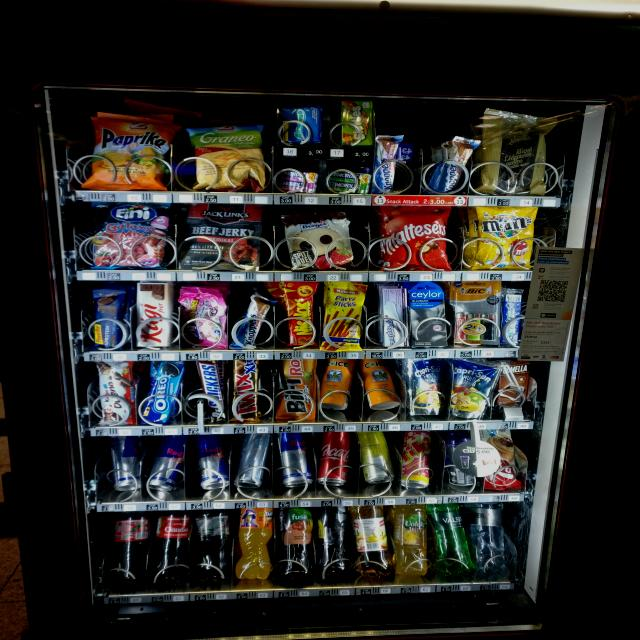7days_croissantschoko_packung_80_1_0000000000003: (479, 428, 524, 488)
airwaves_menthoneucalyptus_riegel_14_1_50173167: (281, 105, 324, 146)
berger_spitzbueb____: (282, 214, 359, 269)
bifi_roll__50__4251097402635: (275, 358, 318, 419)
bueno___43__4008400320328: (94, 359, 138, 425)
c-swiss_dosenabisicetea__33__9120025930135: (361, 358, 401, 410), (320, 358, 358, 412)
caprisun_multivitamin__20__4000177605004: (451, 358, 495, 418), (411, 358, 450, 420)
coke__dose_33__54491472: (315, 432, 357, 486)
coke__flasche_50__54491472: (111, 510, 153, 590), (153, 509, 192, 587)
coke_zero_flasche_50__5449000131836: (190, 507, 233, 582)
comella_schokodrink__33__7613100037253: (498, 360, 532, 414)
fanta___50__40822938: (234, 506, 275, 578)
fini_galaxymix_packung_100_1_8410525150364: (89, 202, 163, 266)
fini_jellykisses_packung_80_1_8410525116704: (179, 288, 226, 350)
fuse_lemon__50__5449000235947: (314, 505, 356, 579)
fuse_lemon_dose_33__5449000235947: (359, 432, 395, 483)
fuse_peach__50__5449000236623: (277, 504, 316, 585)
jacklinks_beefjerkyorginal__25__4047751730219: (182, 203, 264, 270)
jlbrichard_gauffrechoko__90__5410495002079: (484, 106, 548, 192)
kagi___50__7610046000259: (132, 280, 173, 346)
knoppers_riegel____4035800488808: (231, 294, 272, 346), (439, 133, 474, 192), (374, 132, 399, 190)
lorenz_nicnacs__40__4018077798818: (280, 280, 322, 351)
malburner_partysticks__40__7610200279682: (322, 280, 363, 351)
maltesers___100__5000159023061: (376, 202, 454, 269)
mnms_gelb__45__40111445: (474, 206, 532, 268)
oreo___66__84100733: (145, 360, 183, 425)
powerbar_proteinplusschoko__55__4029679520028: (91, 289, 127, 349)
ramseier_schorle__50__7610057012456: (351, 504, 394, 578)
redbull___33__90162909: (194, 432, 234, 492), (147, 436, 188, 493), (276, 432, 315, 487), (110, 434, 146, 490)
redbull_light__33__90162800: (237, 434, 277, 492)
skittles_sour_riegel_51_1_: (339, 99, 374, 144)
snickers___50__5000159461122: (192, 359, 228, 420)
stimorol_spearmint_riegel_14_1_: (326, 168, 369, 192)
stimorol_wildcherry_riegel_14_1_57060330: (273, 167, 313, 192)
tiki_himbeerbrause_dose_33_1_: (402, 430, 432, 490)
twix___50__5000159459228: (229, 358, 262, 420)
valser_classic__50__76404160: (428, 502, 474, 576)
valser_still__50__7610335002575: (466, 502, 510, 576)
volvic_pinapple__50__305764335648: (391, 504, 430, 577)
zweifel_graneochilli__100__7610095184009: (186, 124, 270, 190)
zweifel_paprika__90__7610095013002: (86, 112, 172, 190)
